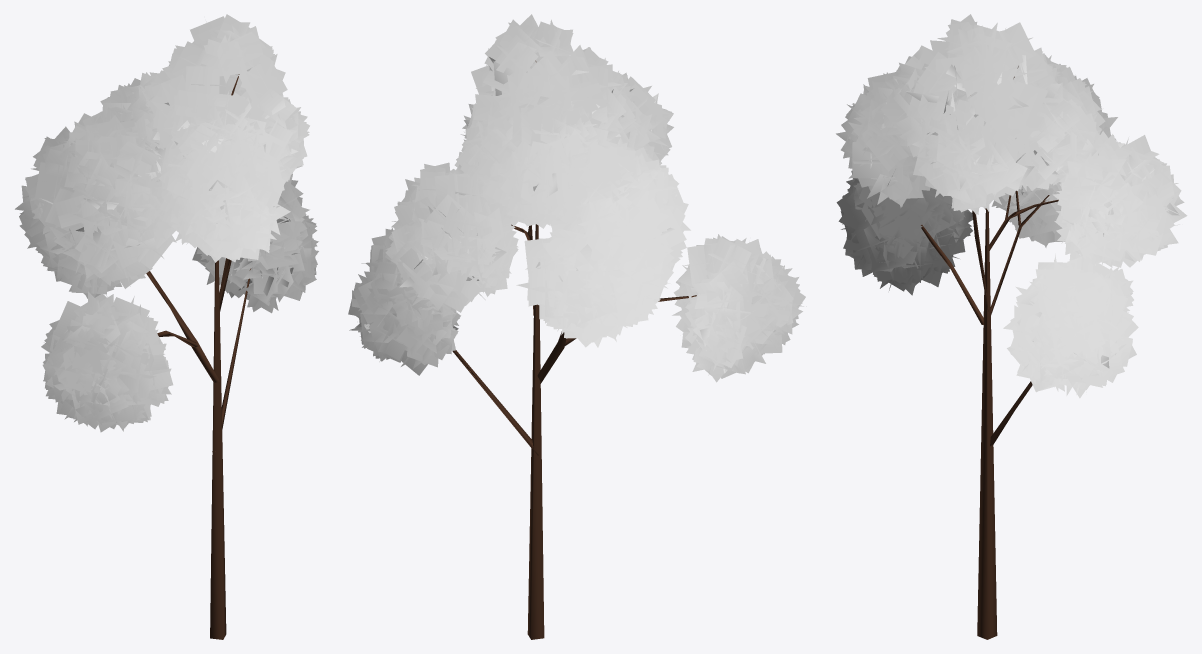
The model's file is Tree1Lod1.fbx.
3 views of the same model, side by side, from view 1: azimuth 30°, elevation 25°; view 2: azimuth 150°, elevation 25°; view 3: azimuth 270°, elevation 25° (orthographic).
Parts seen in each view (by area): view 1: leaves.001, Trunk.001; view 2: leaves.001, Trunk.001; view 3: leaves.001, Trunk.001.
Boxes of the visible parts, x1=… form: leaves.001: x1=15, y1=14, x2=318, y2=432; Trunk.001: x1=146, y1=74, x2=251, y2=639; leaves.001: x1=348, y1=14, x2=806, y2=382; Trunk.001: x1=452, y1=60, x2=696, y2=639; leaves.001: x1=836, y1=14, x2=1187, y2=398; Trunk.001: x1=921, y1=66, x2=1058, y2=639.
Size of the model in its own units: 420 by 702 by 361.
